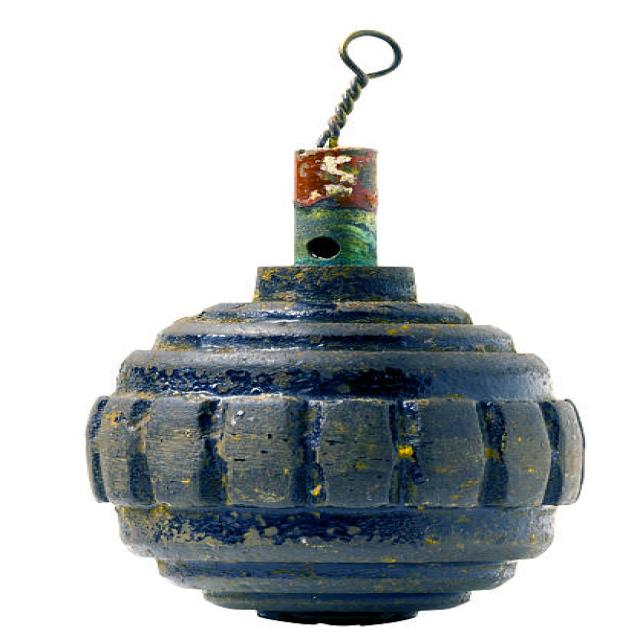grenade: (48, 14, 590, 640)
